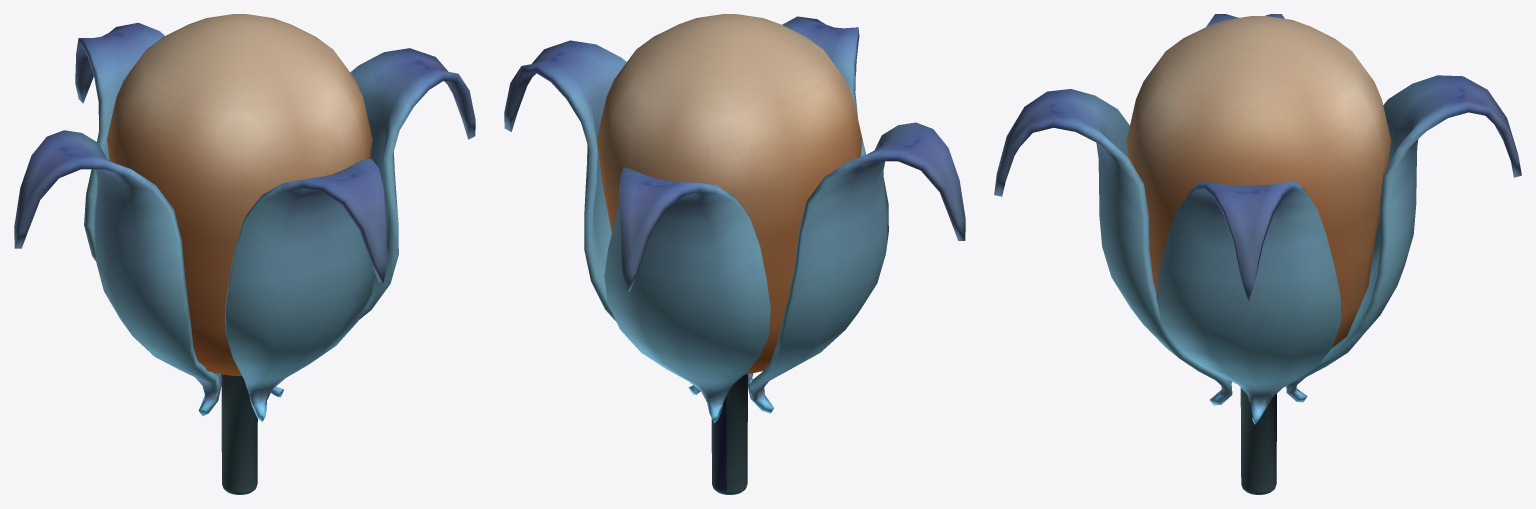
File: Egg_Fruit_dream.glb
3 views of the same model, side by side, from view 1: azimuth 30°, elevation 25°; view 2: azimuth 150°, elevation 25°; view 3: azimuth 270°, elevation 25° (orthographic).
Parts seen in each view (by area): view 1: Egg_fruit; view 2: Egg_fruit; view 3: Egg_fruit.
Part boxes in pixels (x1=…): Egg_fruit: x1=14, y1=14, x2=475, y2=494; Egg_fruit: x1=504, y1=14, x2=965, y2=494; Egg_fruit: x1=994, y1=14, x2=1521, y2=494.
Size of the model in its own units: 2.34 by 2.27 by 2.33.
1 material, 1 textured.
